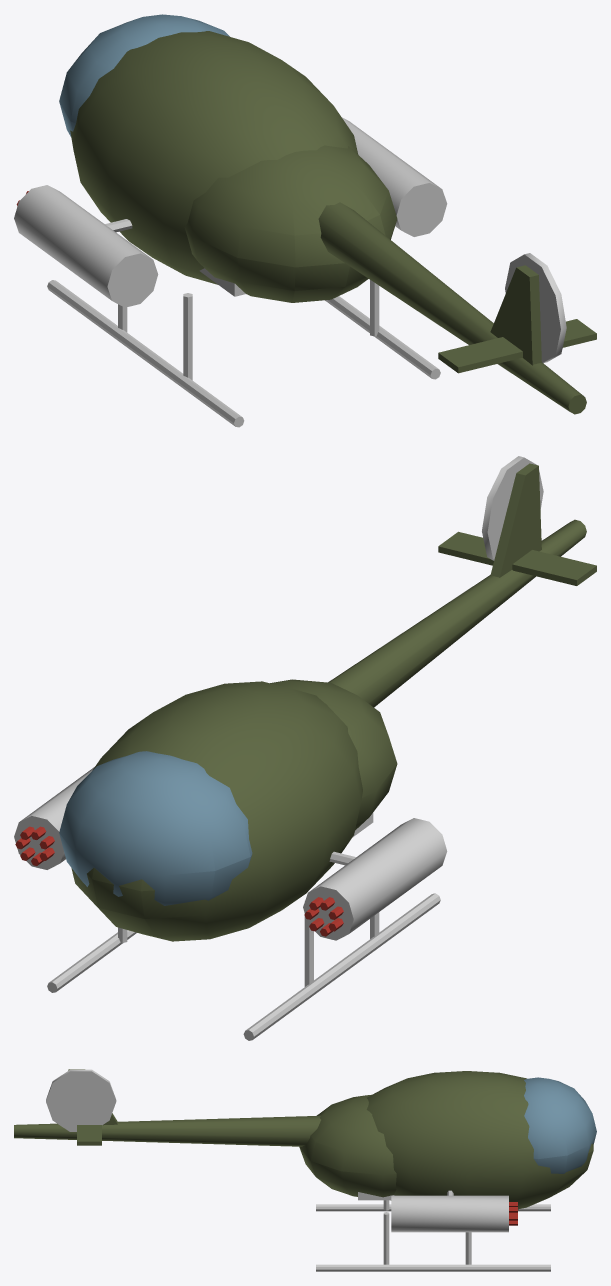
3 views of the same model, one above another, from view 1: azimuth 30°, elevation 25°; view 2: azimuth 150°, elevation 25°; view 3: azimuth 270°, elevation 25° (orthographic). The views are drawn at different scales.
Parts seen in each view (by area): view 1: model; view 2: model; view 3: model.
Boxes of the visible parts, x1,y1,x2,y2 form: model: (14, 14, 596, 427); model: (14, 456, 596, 1040); model: (14, 1069, 596, 1271).
Bounding box in the file's own units: 2.94 × 2.29 × 6.95.
